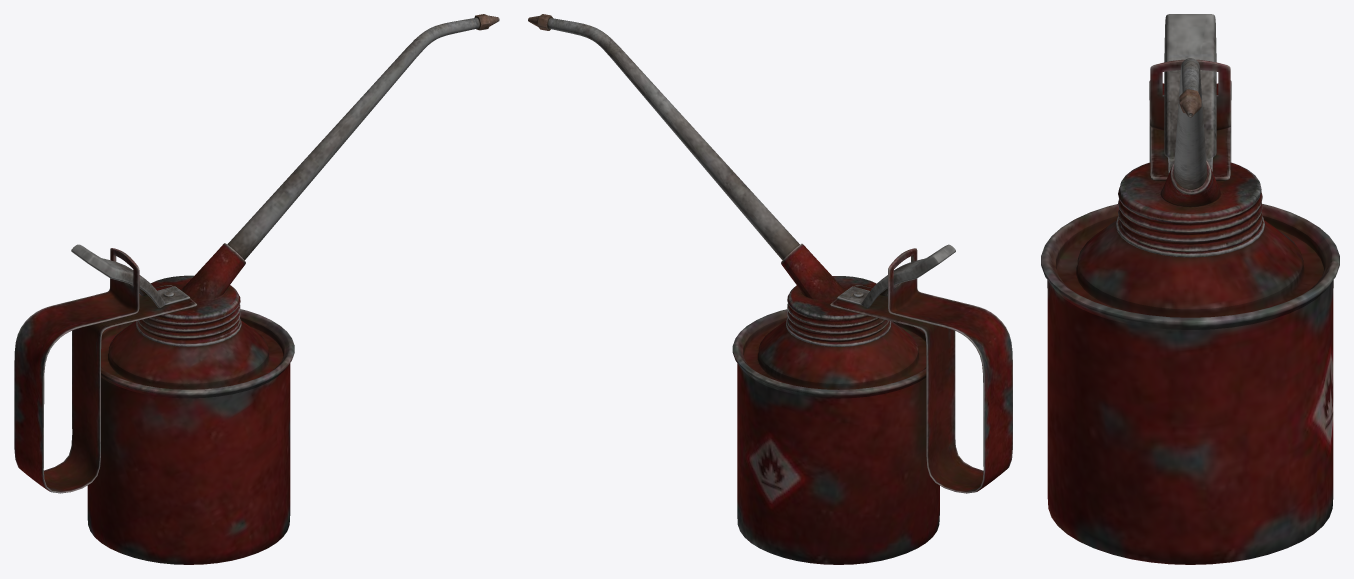
Rendered from small_oil_can_01.glb.
3 views of the same model, side by side, from view 1: azimuth 30°, elevation 25°; view 2: azimuth 150°, elevation 25°; view 3: azimuth 270°, elevation 25° (orthographic). The views are drawn at different scales.
Visible parts, largest first — view 1: small_oil_can_01; view 2: small_oil_can_01; view 3: small_oil_can_01.
Boxes of the visible parts, box(x1,y1,x2,y2) form: small_oil_can_01: box(14, 14, 499, 564); small_oil_can_01: box(528, 14, 1012, 564); small_oil_can_01: box(1041, 14, 1339, 564).
Size of the model in its own units: 0.2661 by 0.2368 by 0.1039.
1 material, 1 textured.
